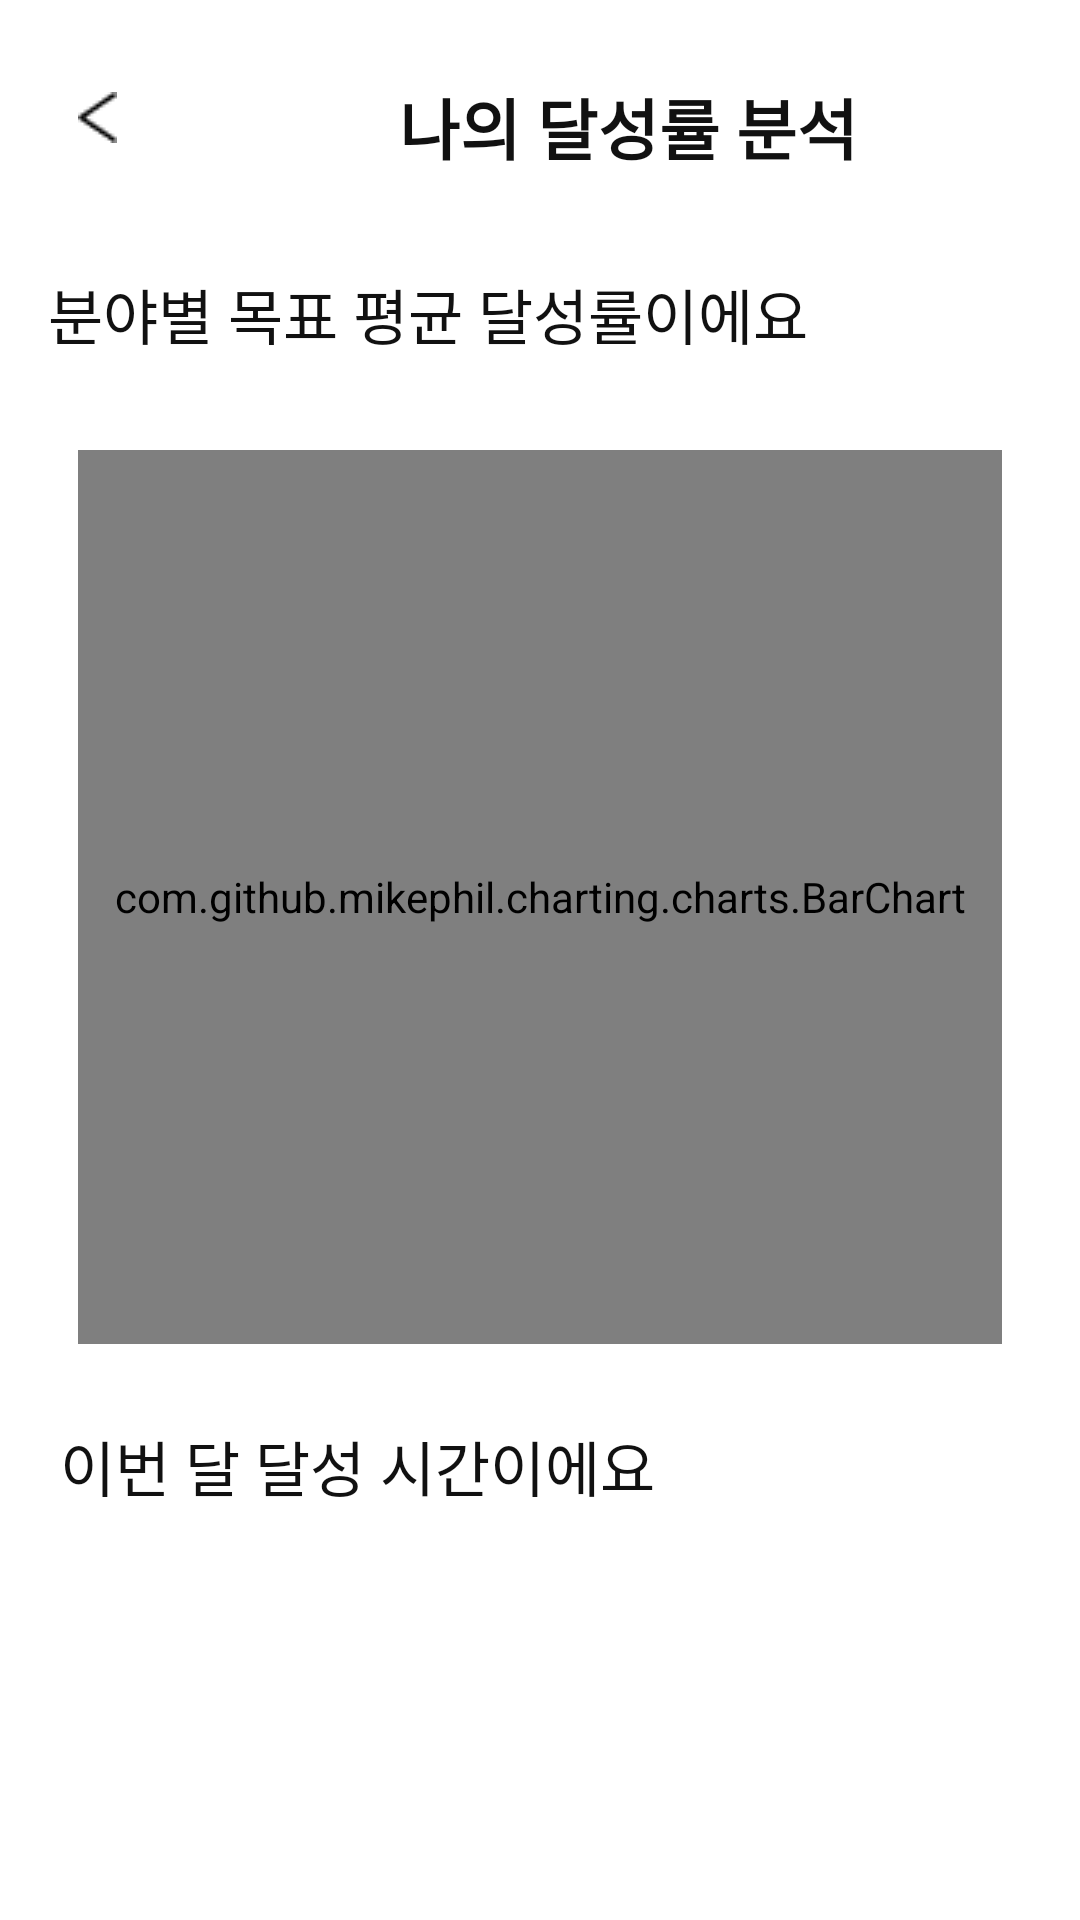

Named icons in this screenshot (1080px x 1920px) and their centers, point (x, y):
leftarrow: point (97, 117)
